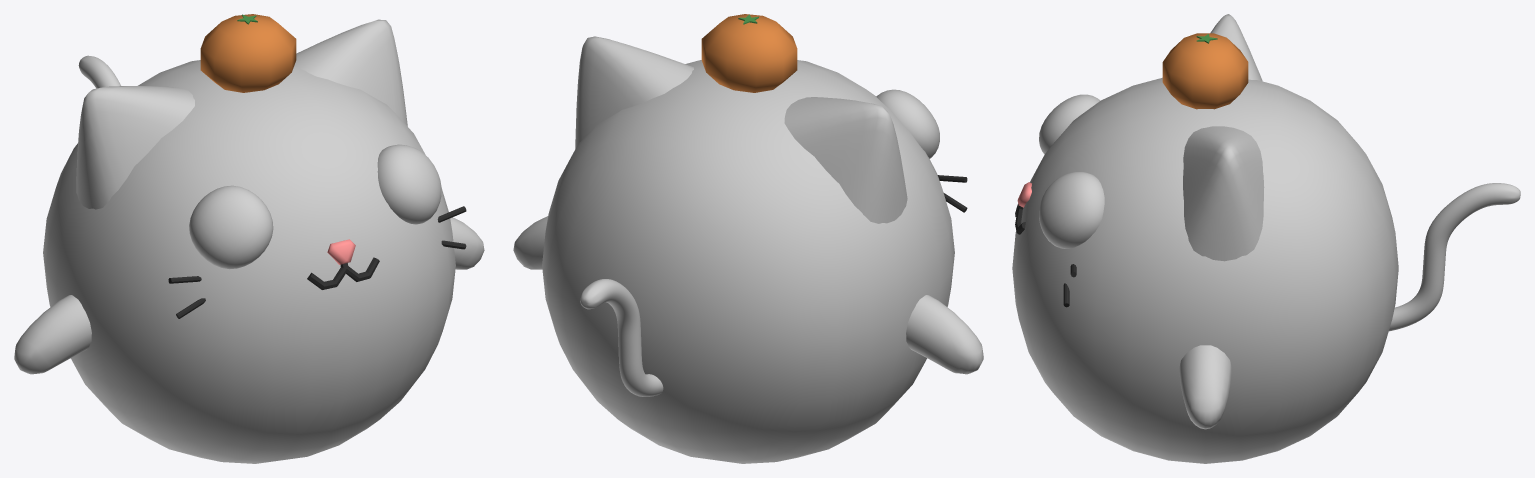
Rendered from cat_skin2 1.fbx.
The picture shows the model from 3 angles, left to right: view 1: azimuth 30°, elevation 25°; view 2: azimuth 150°, elevation 25°; view 3: azimuth 270°, elevation 25°; orthographic projection. The views are drawn at different scales.
Visible parts, largest first — view 1: Slime_Body, cat_skin, Slime_EyeR, Slime_arm, Slime_EyeL; view 2: Slime_Body, cat_skin, Slime_arm, Slime_EyeR; view 3: Slime_Body, cat_skin, Slime_EyeL, Slime_arm, Slime_EyeR.
Boxes of the visible parts, box(x1,y1,x2,y2) form: Slime_Body: box(43, 19, 455, 463); cat_skin: box(168, 14, 466, 318); Slime_EyeR: box(189, 185, 273, 269); Slime_arm: box(14, 217, 484, 374); Slime_EyeL: box(377, 144, 441, 224); Slime_Body: box(542, 36, 954, 463); cat_skin: box(701, 14, 967, 212); Slime_arm: box(513, 216, 983, 374); Slime_EyeR: box(876, 89, 939, 158); Slime_Body: box(1012, 14, 1520, 463); cat_skin: box(1015, 33, 1248, 307); Slime_EyeL: box(1039, 172, 1104, 248); Slime_arm: box(1179, 345, 1231, 429); Slime_EyeR: box(1039, 94, 1100, 154).
Size of the model in its own units: 90.45 by 78.49 by 89.35.
